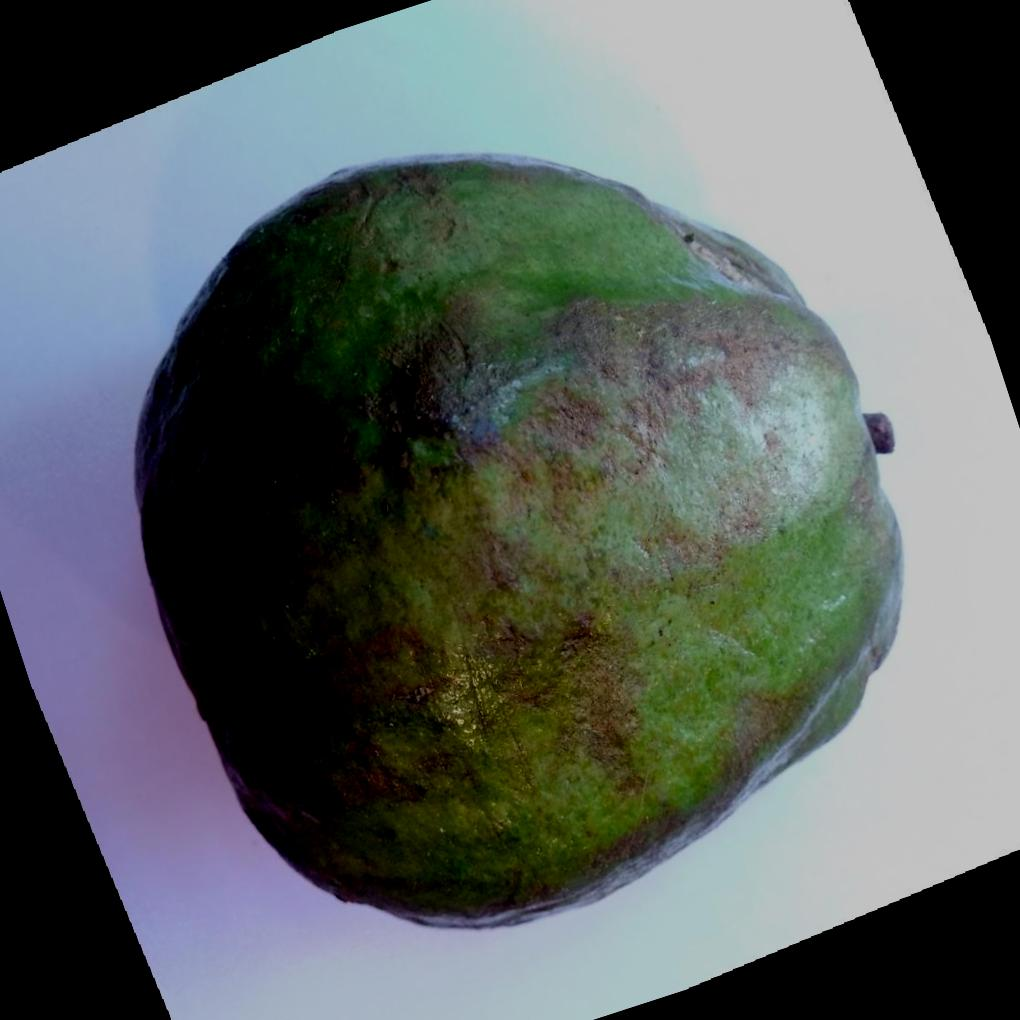FreshOrange: (132, 152, 906, 935)
